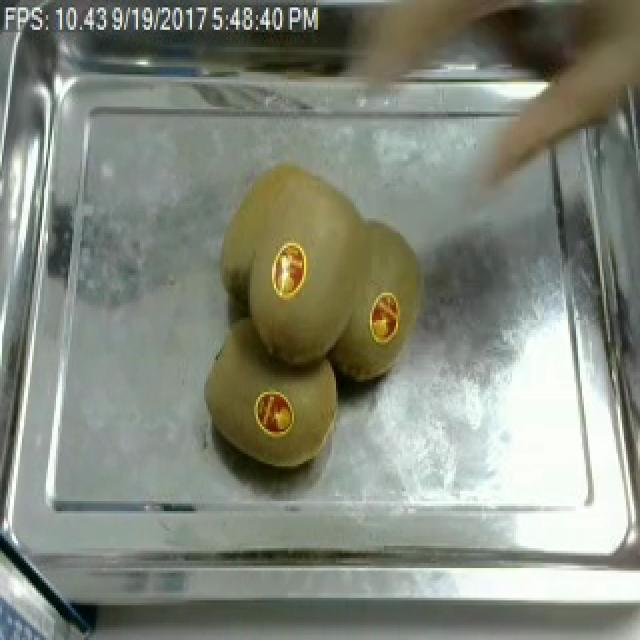Fruit: (212, 156, 438, 380), (198, 315, 350, 474)
